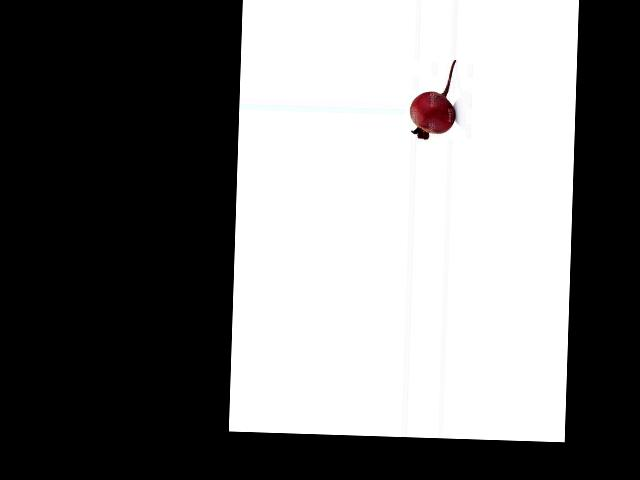beet: (409, 59, 457, 140)
